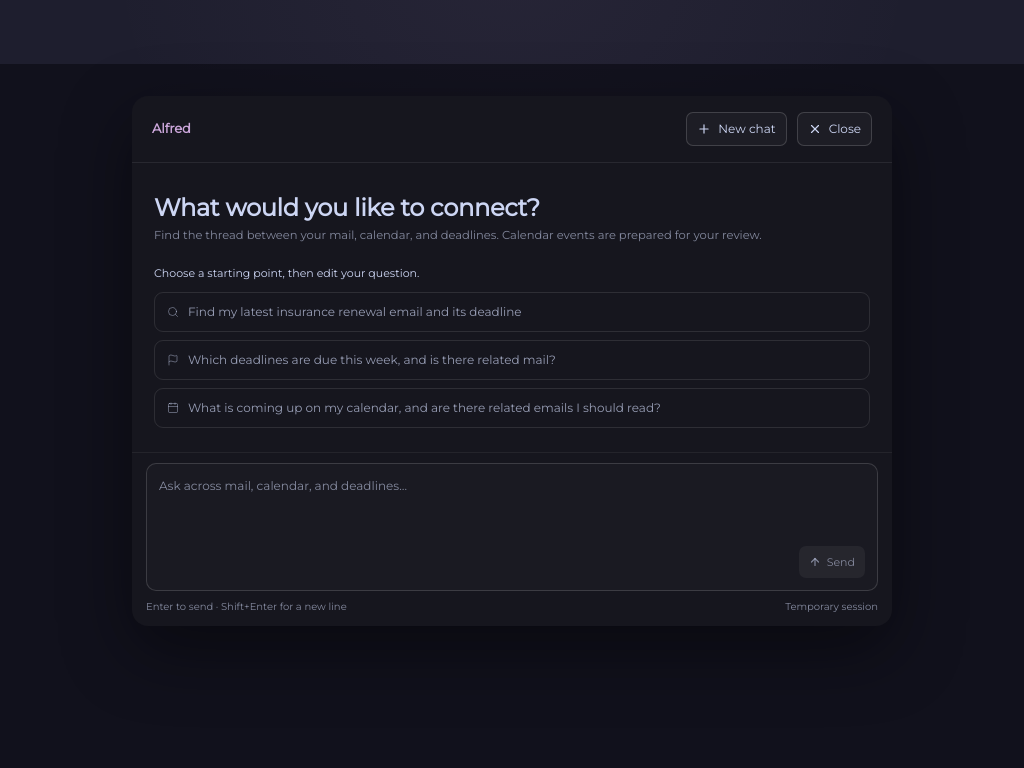
Test: AlfredPanel › submits the draft on Enter and renders the streamed answer
In the text box with placeholder "Ask across mail, calendar, and deadlines…": (512, 507) [159, 476, 865, 538], type "Any deadlines?"
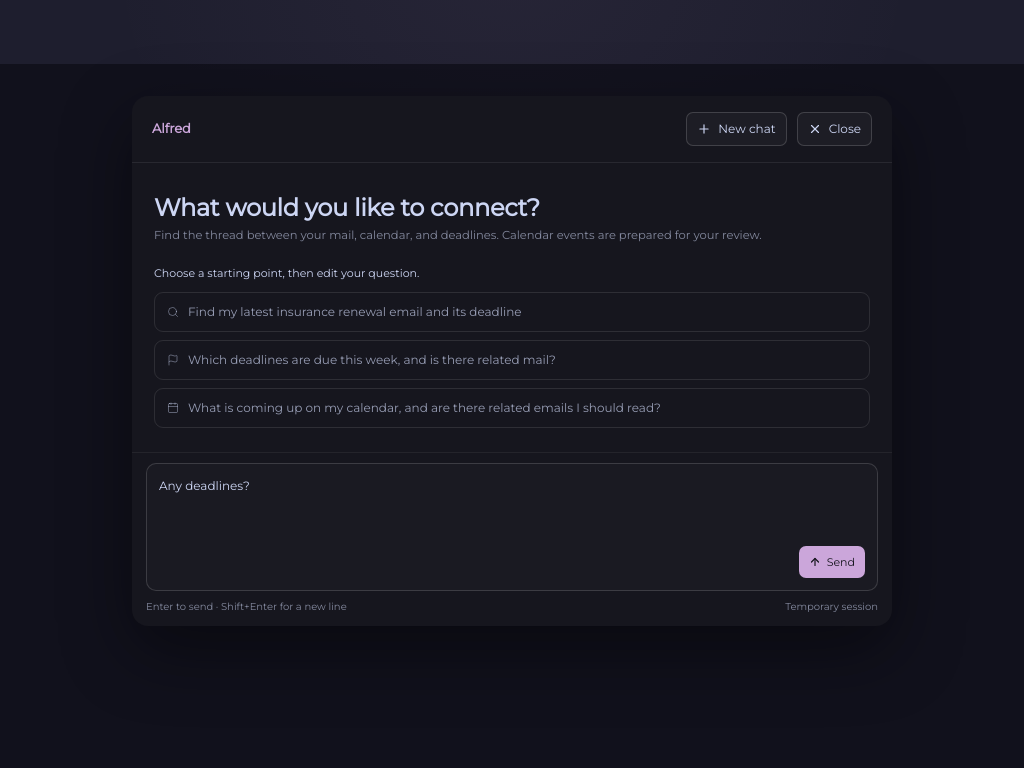
Press Enter in the text box with placeholder "Ask across mail, calendar, and deadlines…", box [159, 476, 865, 538]
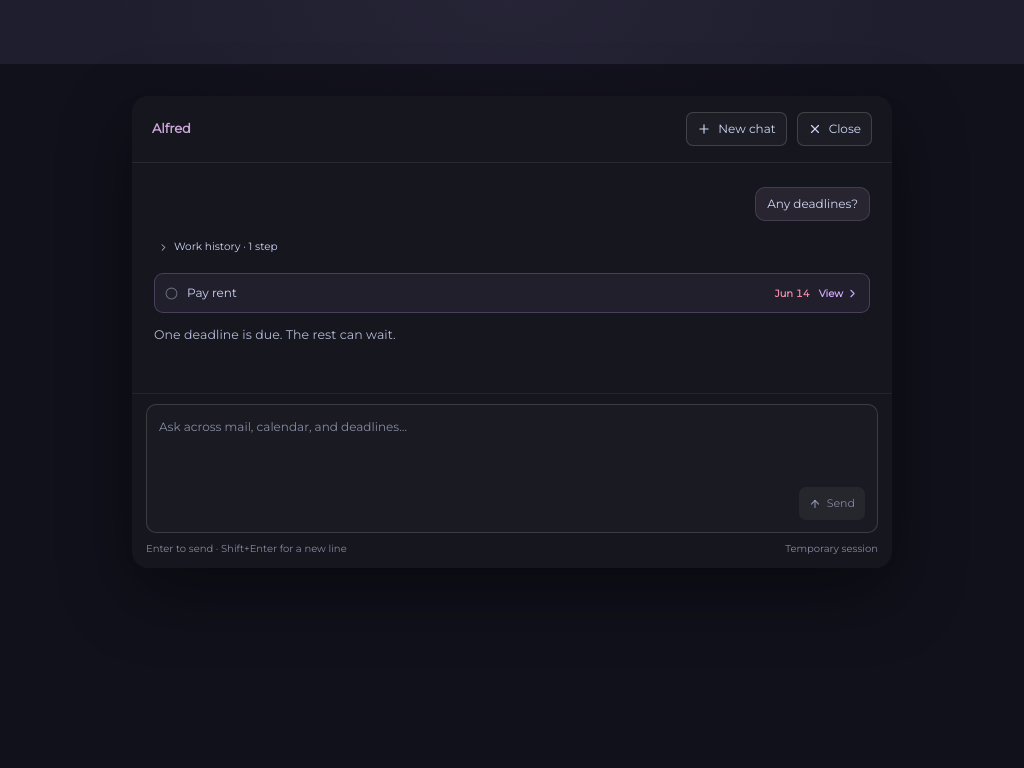
Check: the text "Deadlines · 1 open" is not shown
Check: the text "One deadline is due. The rest can wait." is shown, box [154, 327, 396, 342]
Click the button "Work history · 1 step": click(218, 247) [154, 233, 282, 261]
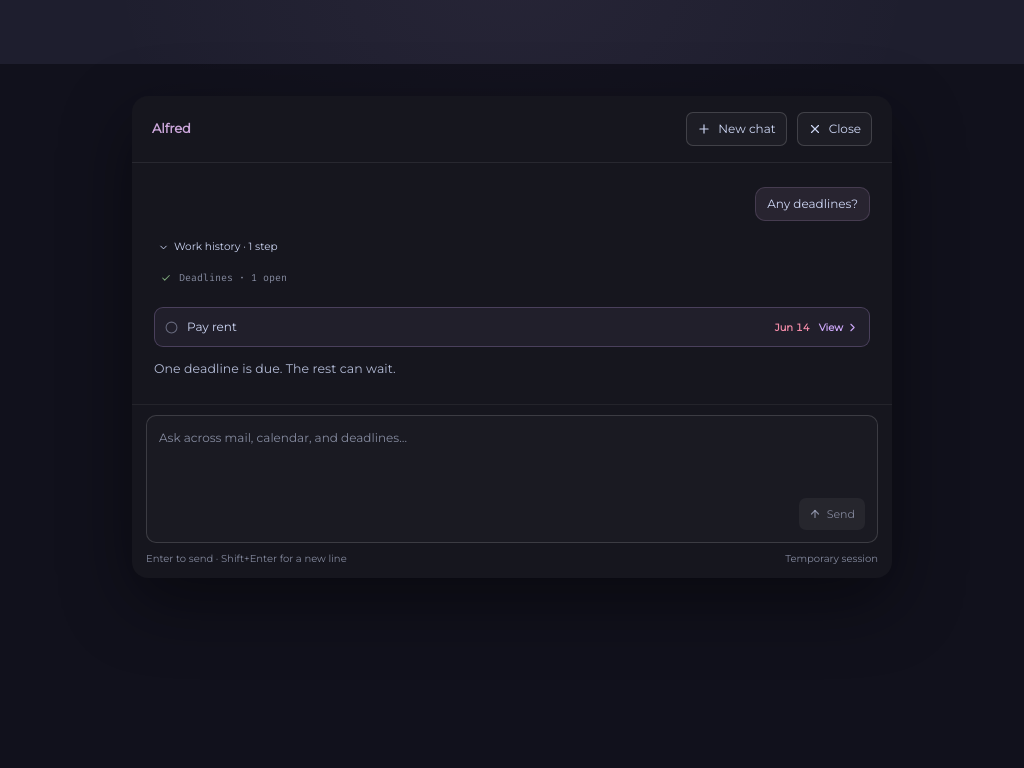
Check: the text "Pay rent" is shown, box [187, 319, 237, 334]
Check: the text "Any deadlines?" is shown, box [755, 187, 870, 221]
Check: the text "Deadlines · 1 open" is shown, box [179, 270, 287, 286]
